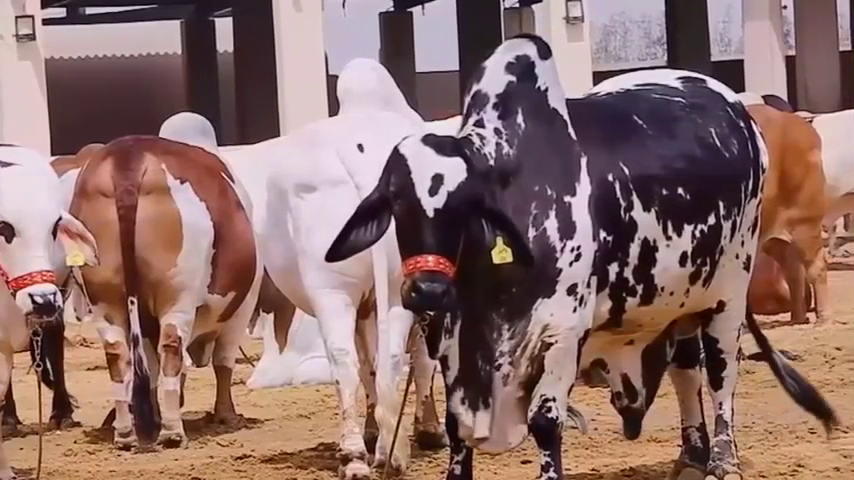bo: (320, 32, 779, 478), (243, 52, 479, 478), (61, 95, 270, 461), (2, 137, 107, 443), (735, 95, 834, 346)
